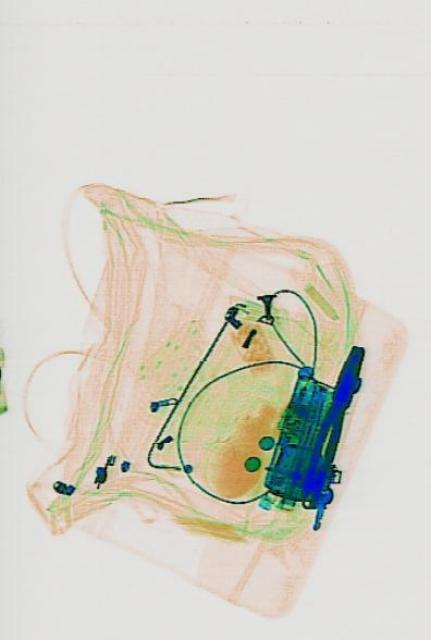Pliers: (300, 336, 367, 498)
